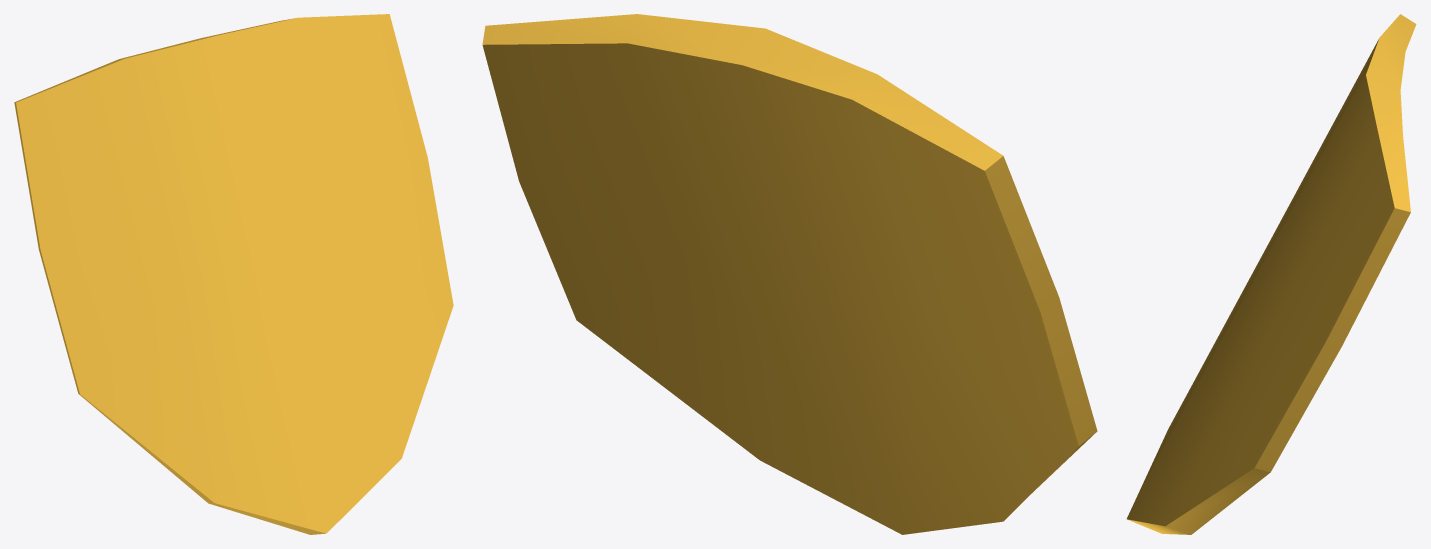
The model's file is Shield02.fbx.
3 renders of one model, left to right at view 1: azimuth 30°, elevation 25°; view 2: azimuth 150°, elevation 25°; view 3: azimuth 270°, elevation 25°, orthographic. The views are drawn at different scales.
Visible parts, largest first — view 1: Box001; view 2: Box001; view 3: Box001.
Boxes of the visible parts, bbox=[...] form: Box001: bbox=[14, 14, 453, 534]; Box001: bbox=[482, 14, 1097, 534]; Box001: bbox=[1127, 14, 1416, 534].
Bounding box in the file's own units: 5.56 × 5.93 × 3.39.
